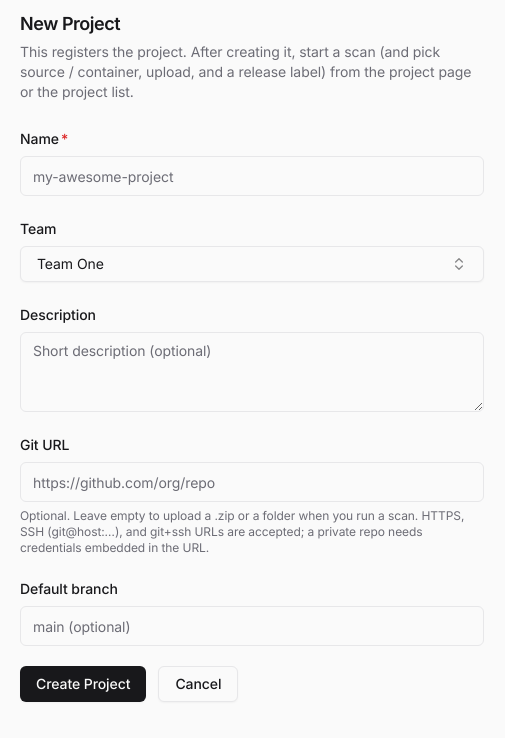
Test: ProjectCreatePage › shows a validation error when the name field is empty on submit
The width and height of the screenshot is (505, 738).
Click the button with test id "project-create-submit" at (83, 684), box [20,666,146,702]
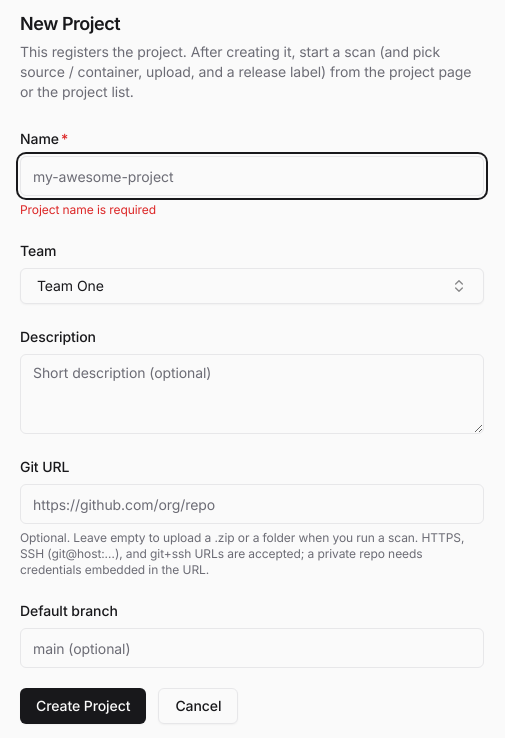
Now the text "Project name is required" is shown, box [20,202,156,217]
